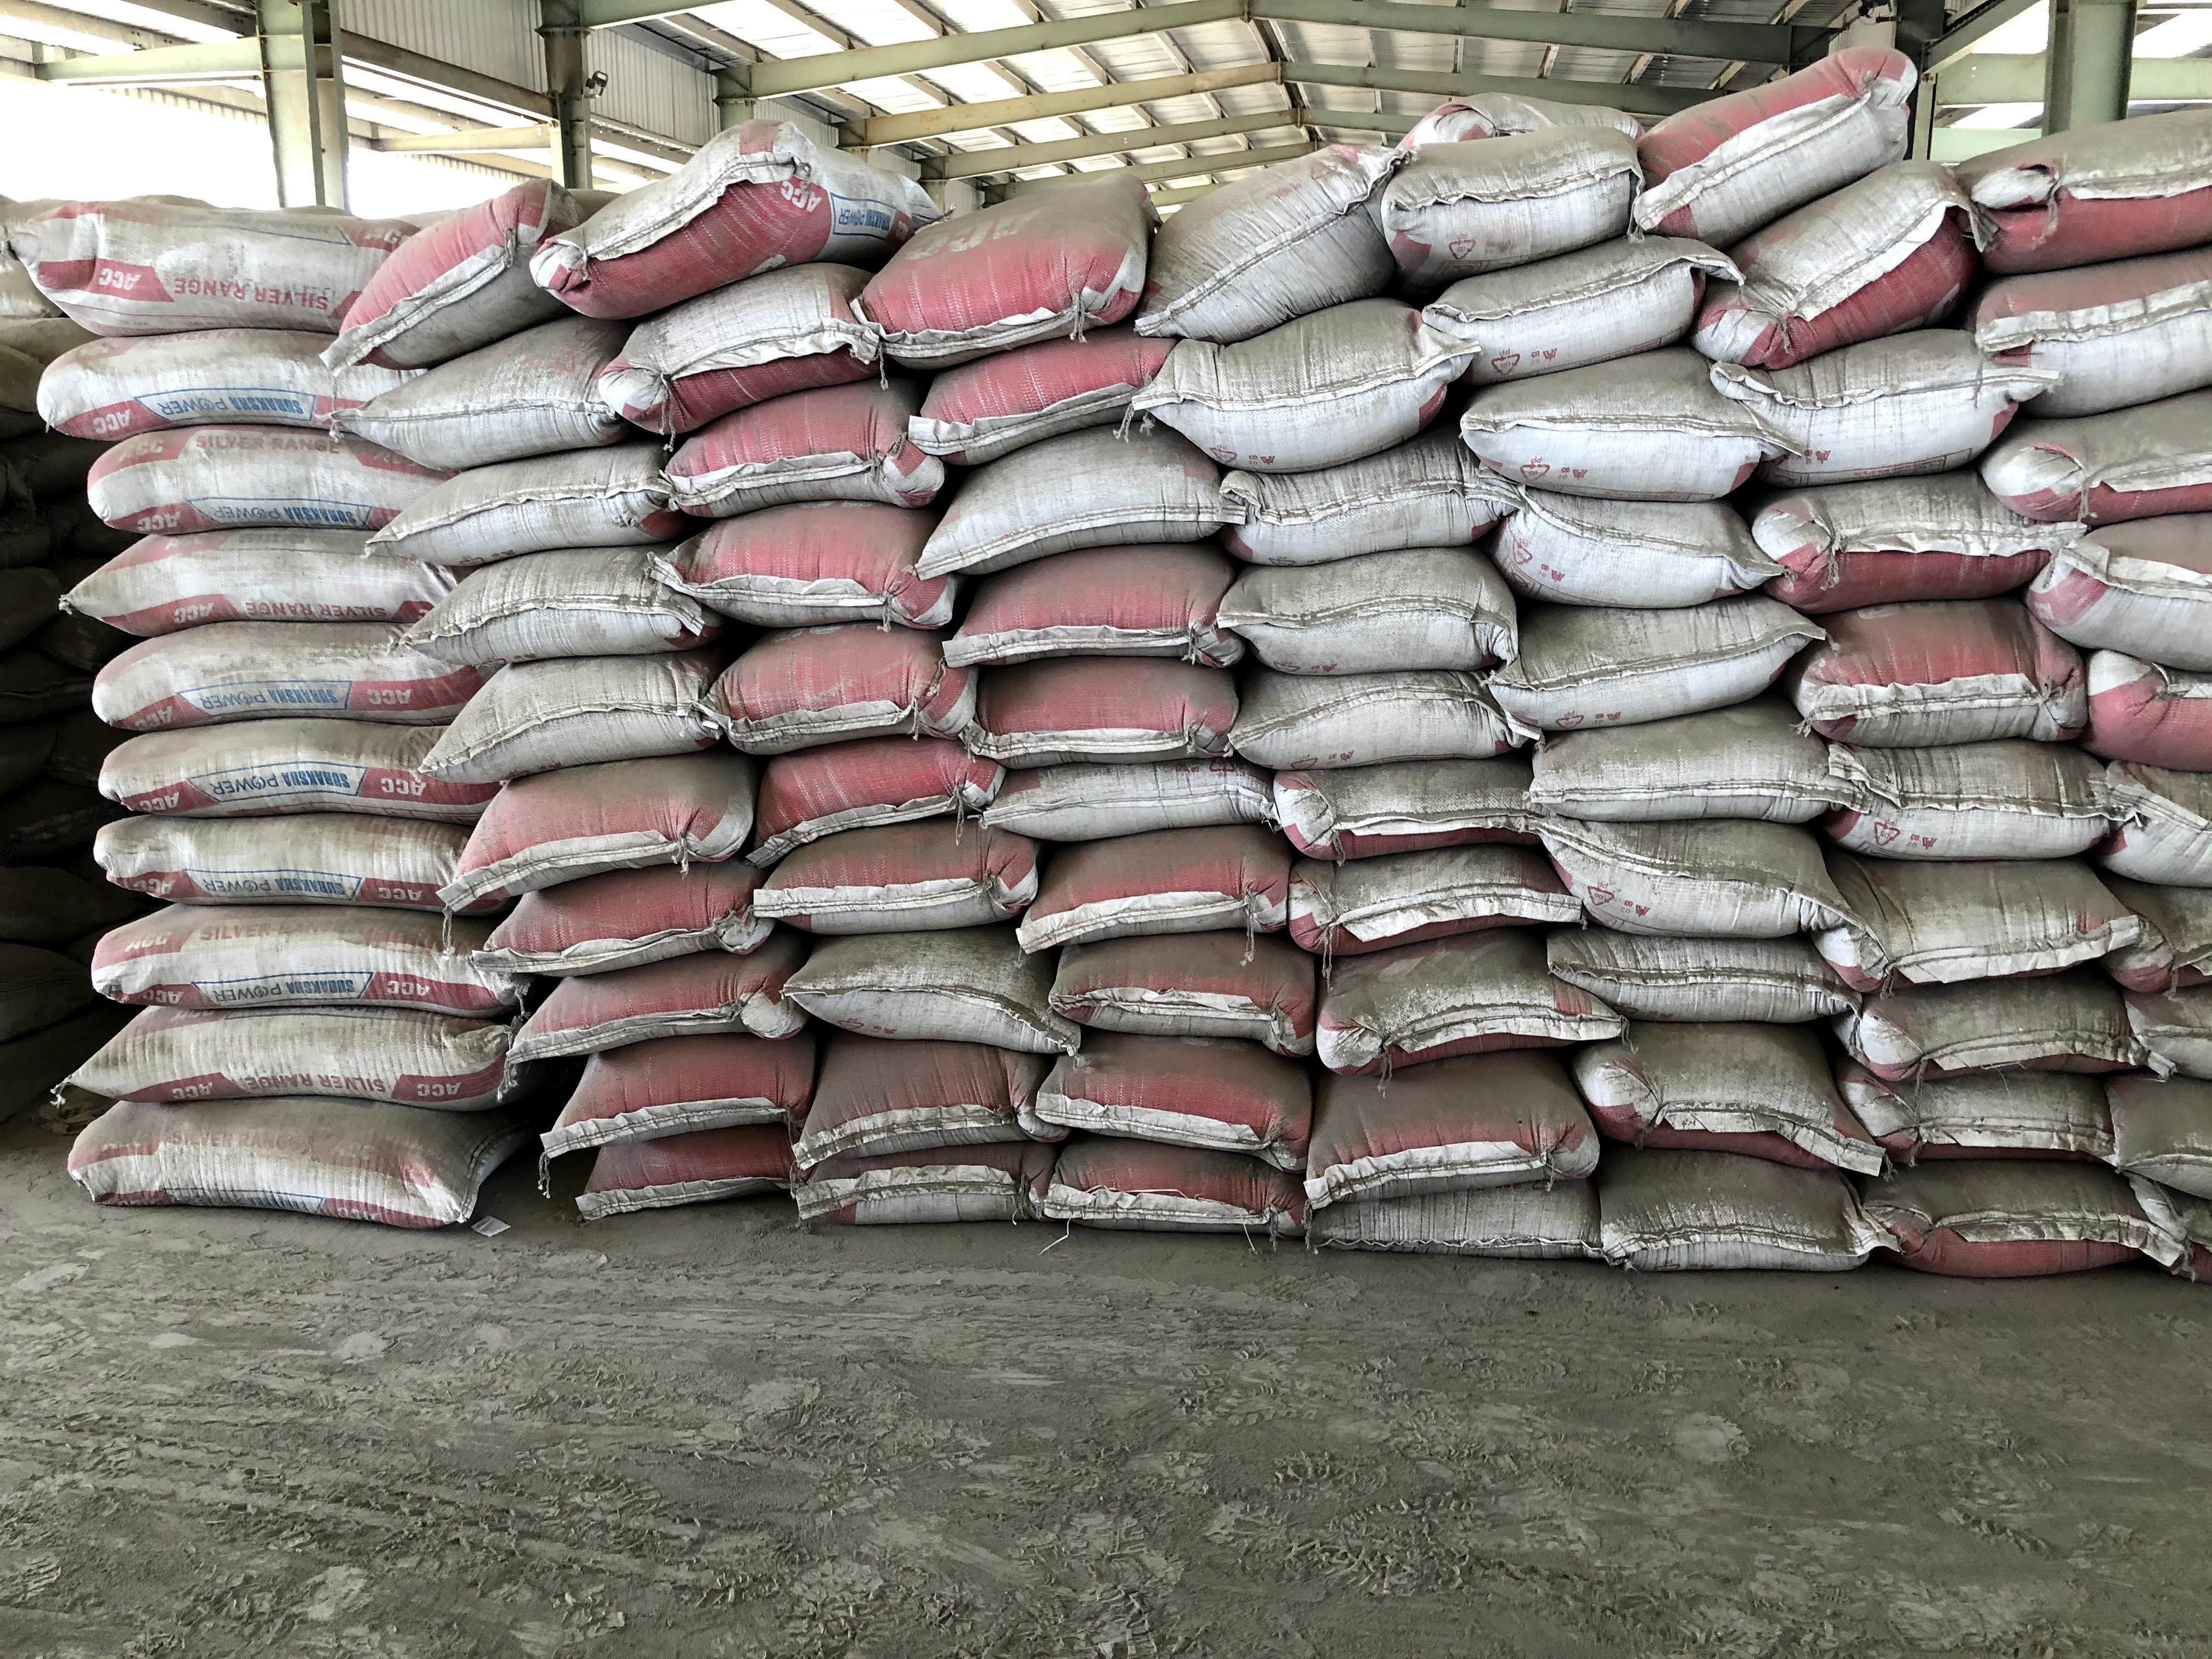cement bag: (80, 1103, 496, 1223), (23, 192, 368, 322), (73, 1012, 524, 1105), (96, 913, 514, 1012), (89, 824, 477, 913), (44, 324, 368, 430), (73, 542, 434, 634), (89, 436, 435, 532), (944, 446, 1251, 554), (1475, 383, 1738, 505), (791, 932, 1066, 1047), (1811, 626, 2081, 742), (89, 732, 477, 810), (1829, 760, 2114, 866), (1775, 493, 2040, 601), (469, 777, 761, 871), (561, 174, 846, 270), (629, 291, 869, 404), (1550, 723, 1829, 821), (1759, 368, 2020, 471), (1512, 505, 1761, 612), (1714, 223, 1984, 321), (1233, 671, 1496, 770), (685, 523, 934, 627), (890, 223, 1130, 331), (1155, 197, 1383, 310), (1385, 160, 1634, 263), (1651, 94, 1918, 190), (1172, 335, 1446, 425), (1517, 617, 1804, 702), (982, 674, 1231, 772), (1223, 471, 1496, 558), (1989, 279, 2212, 385), (674, 413, 909, 512), (1439, 286, 1710, 369), (1238, 570, 1514, 652), (96, 641, 455, 704), (1970, 157, 2212, 246), (381, 476, 665, 551), (967, 575, 1214, 660), (719, 634, 953, 723), (763, 845, 1040, 917), (500, 878, 775, 950), (583, 1044, 791, 1138), (916, 361, 1167, 437), (533, 969, 777, 1046), (824, 1053, 1014, 1150), (432, 568, 676, 643), (369, 366, 615, 439), (2081, 653, 2209, 795), (2067, 535, 2212, 657), (803, 1157, 1038, 1232), (451, 673, 716, 739), (1275, 767, 1547, 826), (383, 223, 549, 317), (2008, 425, 2212, 500), (592, 1145, 803, 1209), (779, 755, 968, 814)
